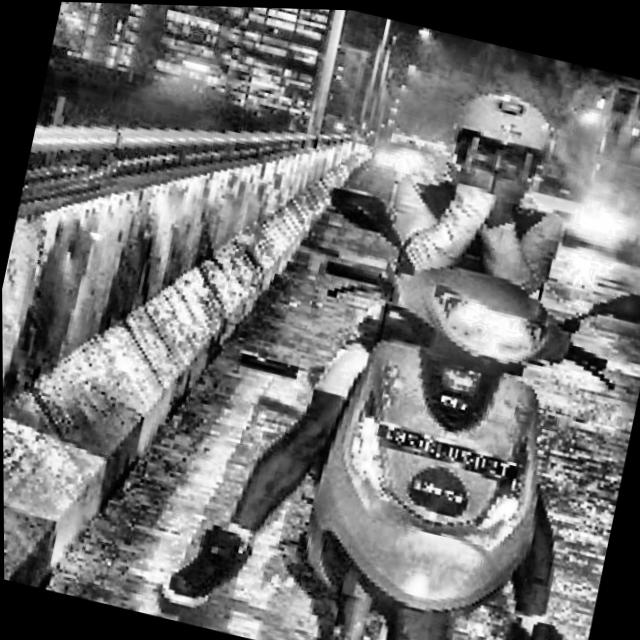motorcycle: (223, 166, 640, 640)
